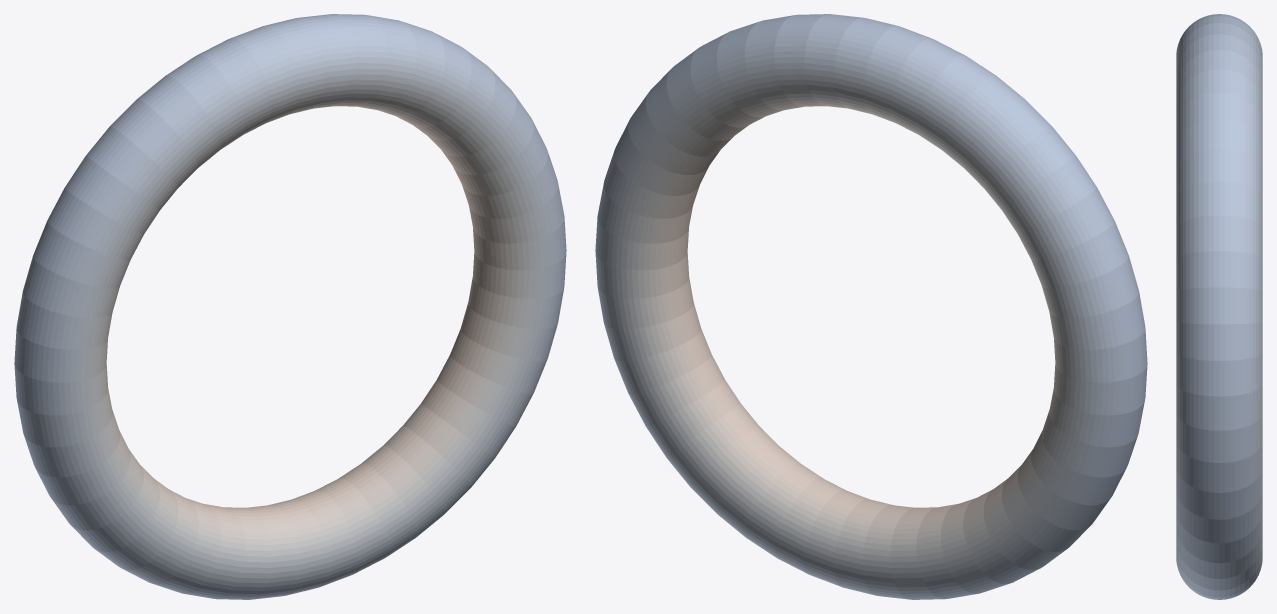
3 views of the same model, side by side, from view 1: azimuth 30°, elevation 25°; view 2: azimuth 150°, elevation 25°; view 3: azimuth 270°, elevation 25° (orthographic). The views are drawn at different scales.
Visible parts, largest first — view 1: world; view 2: world; view 3: world.
Boxes of the visible parts, bbox=[...] form: world: bbox=[14, 14, 566, 599]; world: bbox=[595, 14, 1147, 599]; world: bbox=[1176, 14, 1262, 599].
Size of the model in its own units: 29.73 by 29.67 by 4.39.
